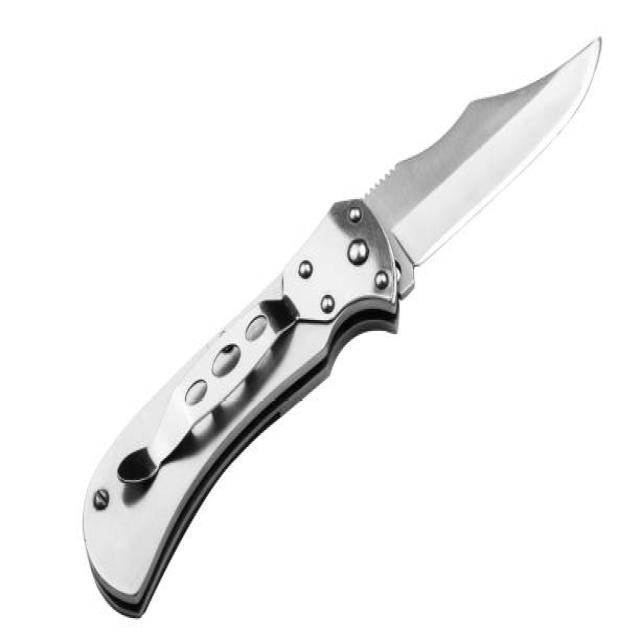knife: (82, 34, 606, 622)
